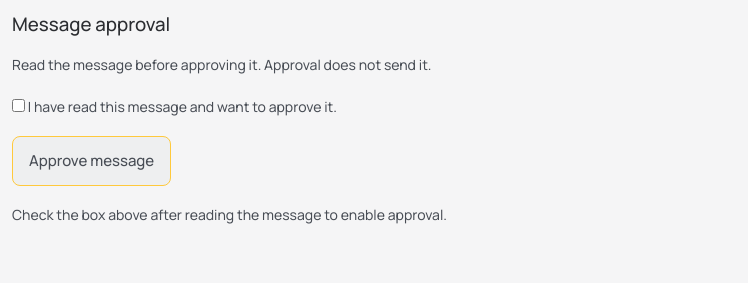
Test: definitive rejection clears pending marker and requires review again
What coordinates should you click on to do the following:
click the checkbox labelled "I have read this message and want to approve it."
I would click on:
 (18, 106)
Its box is [12,99,25,112].
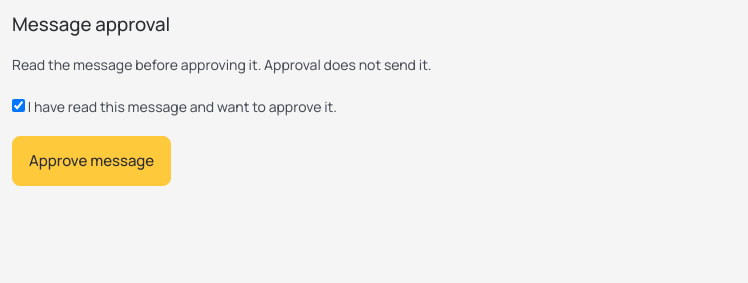
What coordinates should you click on to do the following:
click the button "Approve message"
I would click on:
 (92, 161)
Its box is [12,136,171,186].
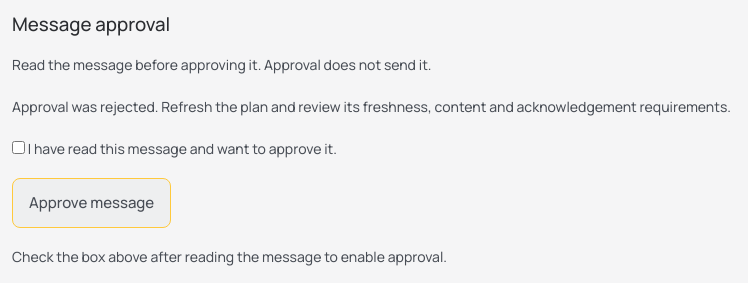
Result: the text "Approval was rejected" is shown at [12,97,731,116]
Result: the checkbox labelled "I have read this message and want to approve it." is not checked at [12,141,25,154]
